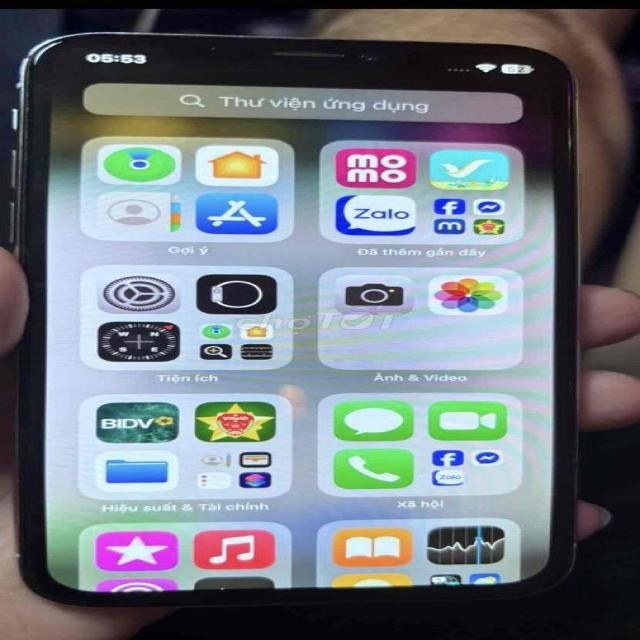scratch: (182, 34, 418, 66), (14, 43, 71, 72)
